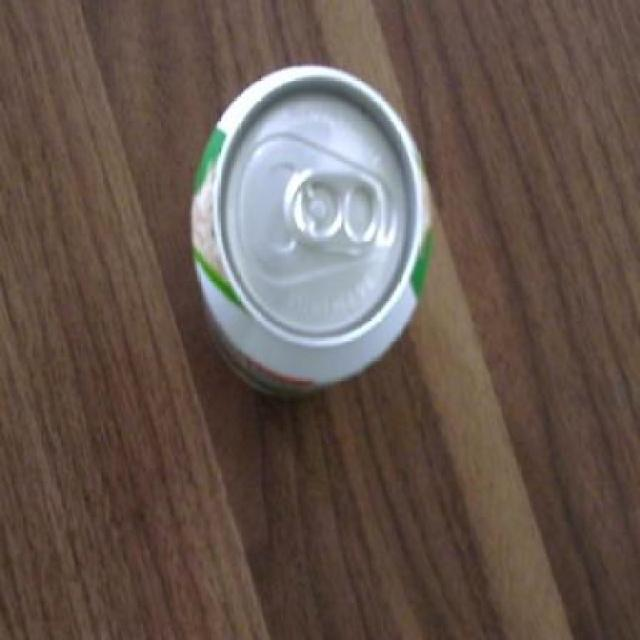Metal: (182, 57, 440, 416)
